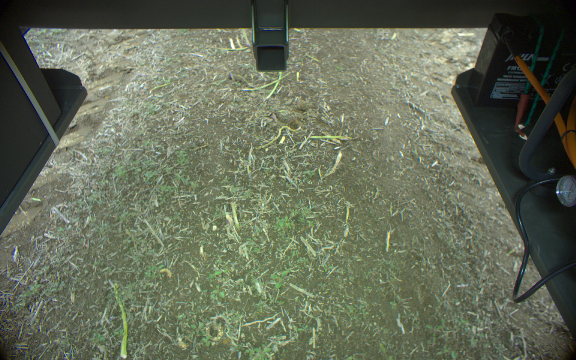aspa: (112, 283, 131, 360), (240, 72, 293, 92), (264, 72, 283, 101), (306, 133, 355, 143)
